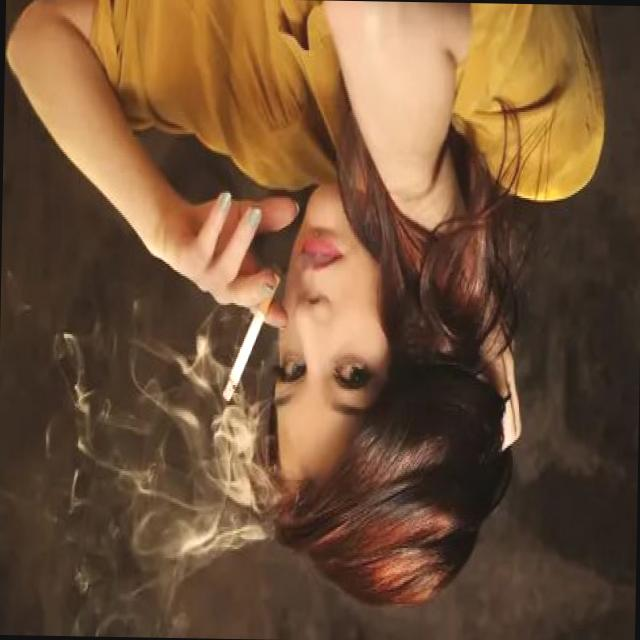cigarette: (218, 266, 284, 408)
